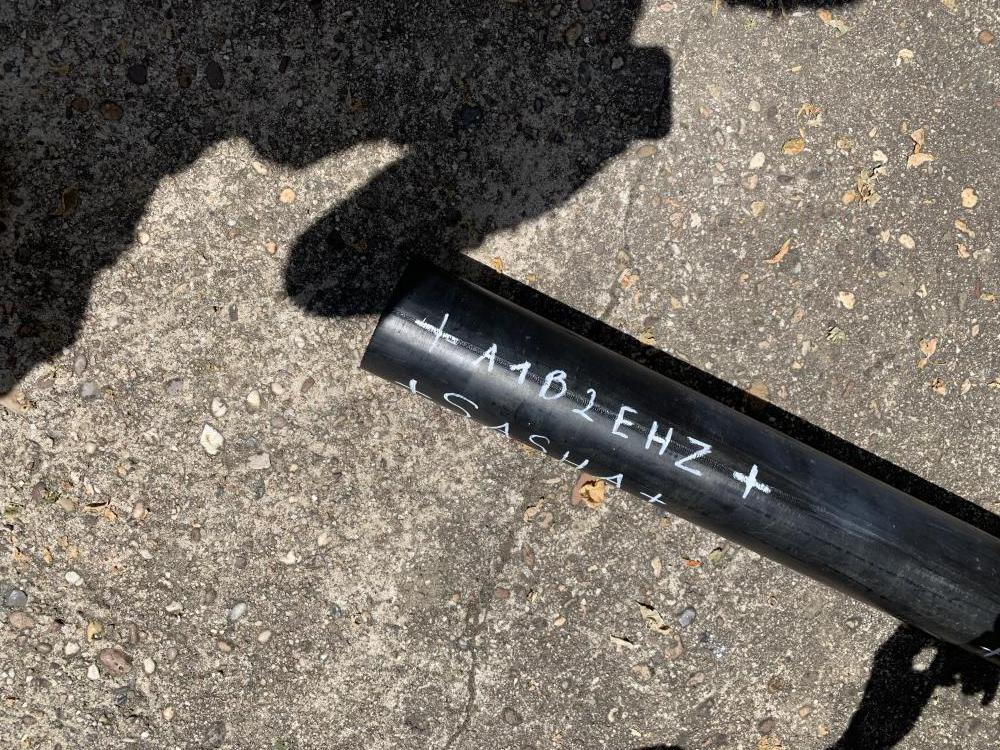+: (540, 398, 585, 437), (228, 252, 268, 286), (568, 350, 606, 372), (333, 244, 360, 258)
1: (470, 365, 490, 390)
2: (404, 328, 427, 362)
A: (505, 378, 529, 406), (378, 262, 406, 278), (489, 311, 512, 329)
B: (433, 349, 460, 380)
E: (364, 312, 388, 346)
H: (328, 294, 356, 330), (411, 279, 441, 299)
S: (523, 329, 556, 359), (450, 297, 471, 316)
Z: (288, 272, 324, 312)
